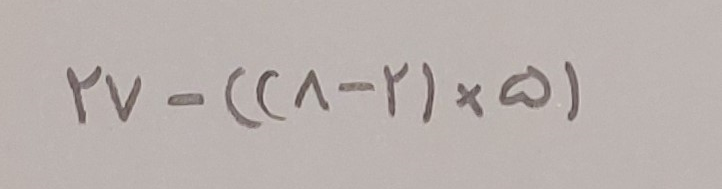character: (224, 66, 259, 127), (499, 66, 549, 107), (66, 65, 100, 123), (106, 75, 143, 122), (256, 69, 285, 120), (295, 69, 330, 111), (383, 62, 408, 114), (565, 61, 579, 120), (456, 83, 481, 116), (422, 62, 434, 120), (167, 93, 204, 106), (338, 81, 377, 93)
